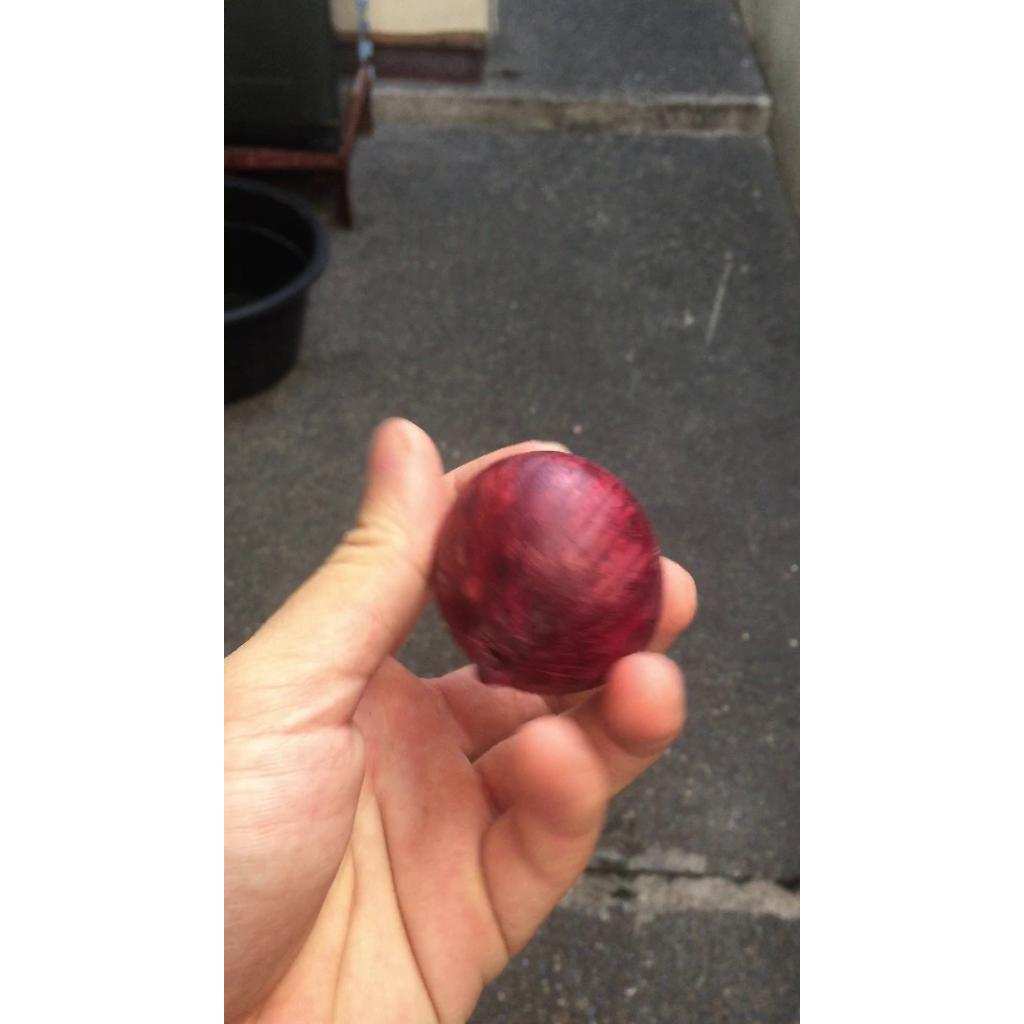Onion: (431, 451, 661, 695)
